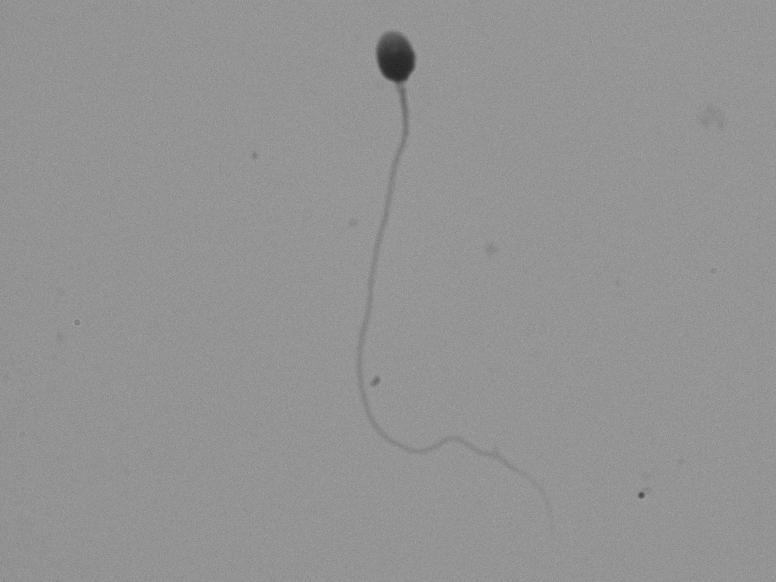Normal: (291, 19, 569, 495)
